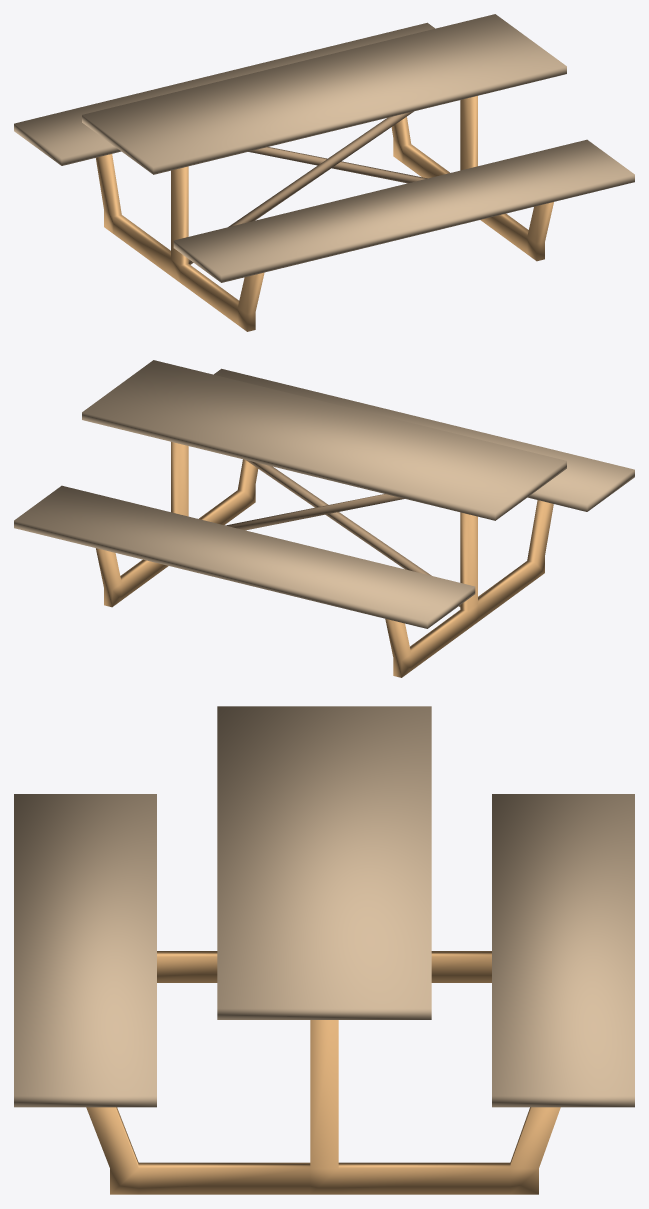
File: picnic_table_bench.glb
The picture shows the model from 3 angles, top to bottom: view 1: azimuth 30°, elevation 25°; view 2: azimuth 150°, elevation 25°; view 3: azimuth 270°, elevation 25°; orthographic projection. The views are drawn at different scales.
Parts seen in each view (by area): view 1: Node; view 2: Node; view 3: Node.
Part boxes in pixels (x1=…): Node: x1=14, y1=14, x2=634, y2=331; Node: x1=14, y1=360, x2=634, y2=677; Node: x1=14, y1=706, x2=634, y2=1194.
Bounding box in the file's own units: 2 × 0.705 × 1.74.
